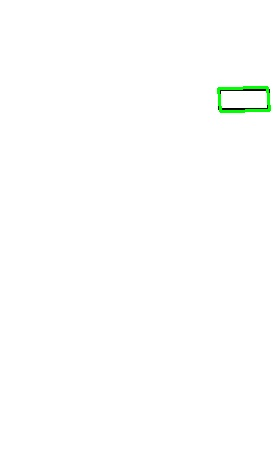line_segment: (217, 87, 271, 112)
